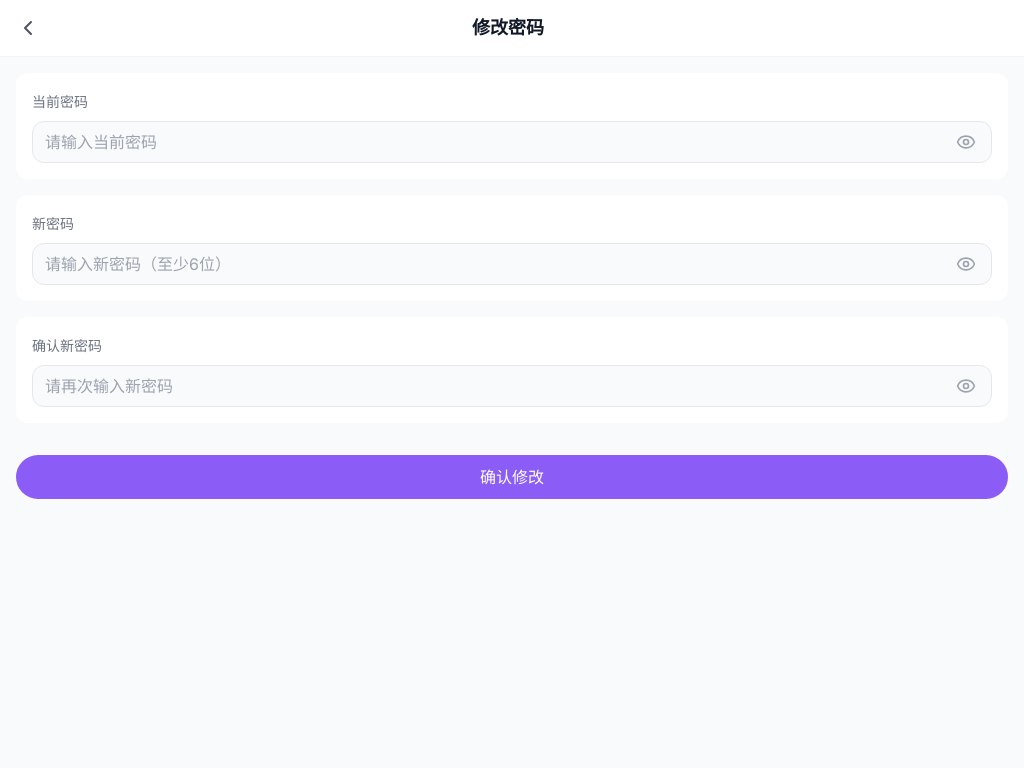
Test: ChangePasswordPage › validates new password minimum length
Step 1. Type "123456" into the password field with placeholder "请输入当前密码" → (512, 142), box left=32, top=121, right=992, bottom=163
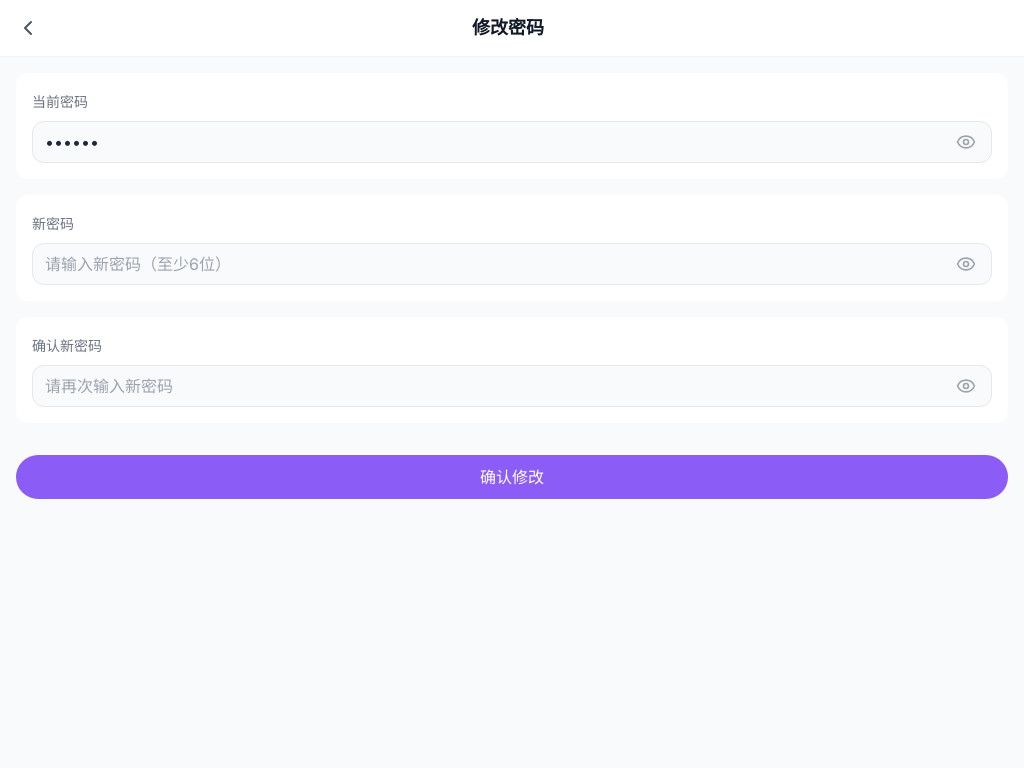
Step 2. Type "12345" into the password field with placeholder "请输入新密码（至少6位）" → (512, 264), box left=32, top=243, right=992, bottom=285
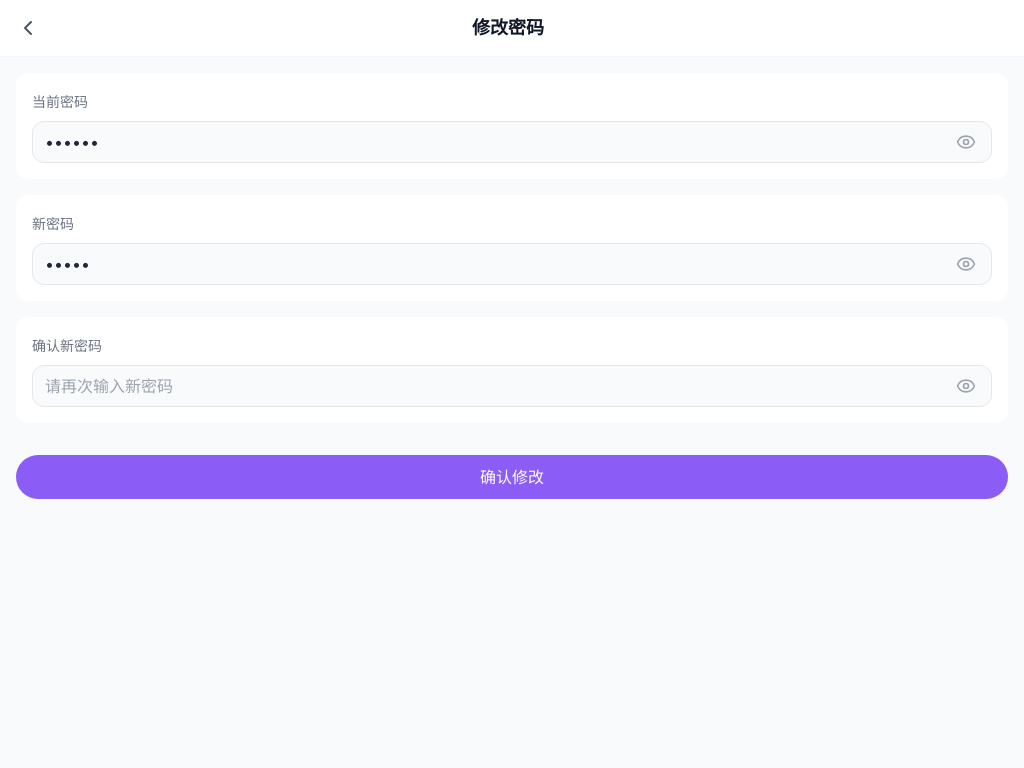
Step 3. Type "12345" into the password field with placeholder "请再次输入新密码" → (512, 386), box left=32, top=365, right=992, bottom=407
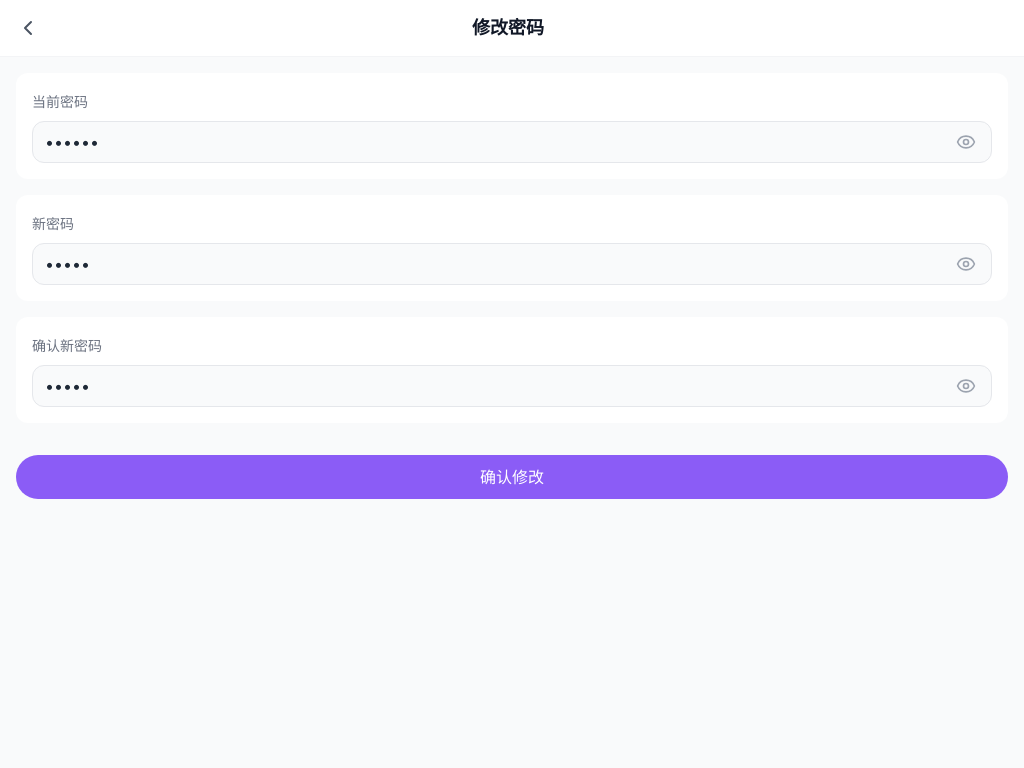
Step 4. Click the button "确认修改" → click(512, 477), box left=16, top=455, right=1008, bottom=499
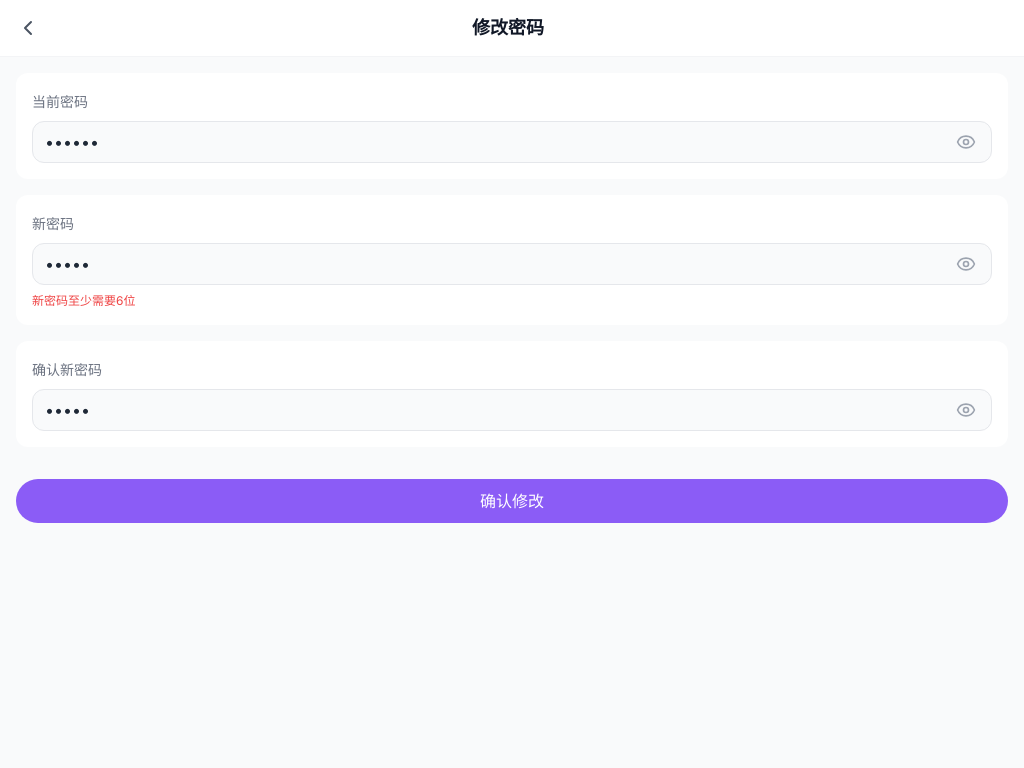
Result: the text "新密码至少需要6位" is shown at left=32, top=293, right=136, bottom=308
